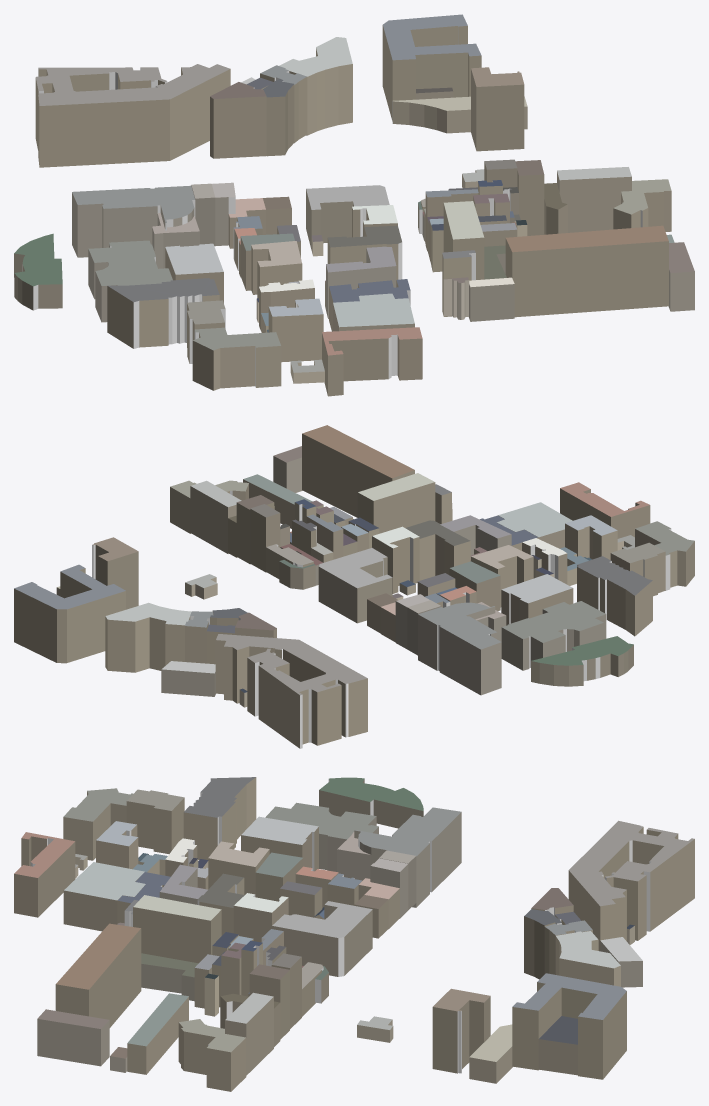
3 views of the same model, one above another, from view 1: azimuth 30°, elevation 25°; view 2: azimuth 150°, elevation 25°; view 3: azimuth 270°, elevation 25° (orthographic). The views are drawn at different scales.
Visible parts, largest first — view 1: tuile; view 2: tuile; view 3: tuile.
Boxes of the visible parts, left/top/right/bottom form: tuile: left=14, top=14, right=694, bottom=396; tuile: left=14, top=425, right=694, bottom=748; tuile: left=14, top=777, right=694, bottom=1091.
Bounding box in the file's own units: 275 × 35.34 × 286.
